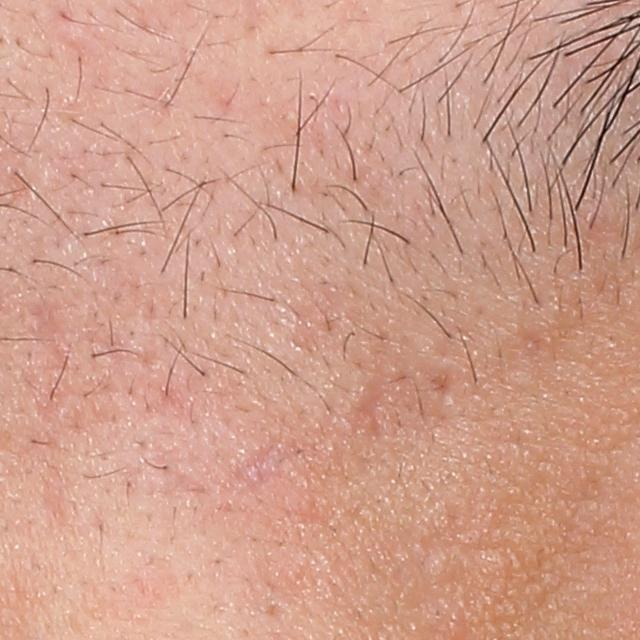atrophic_scar: (424, 369, 454, 403)
